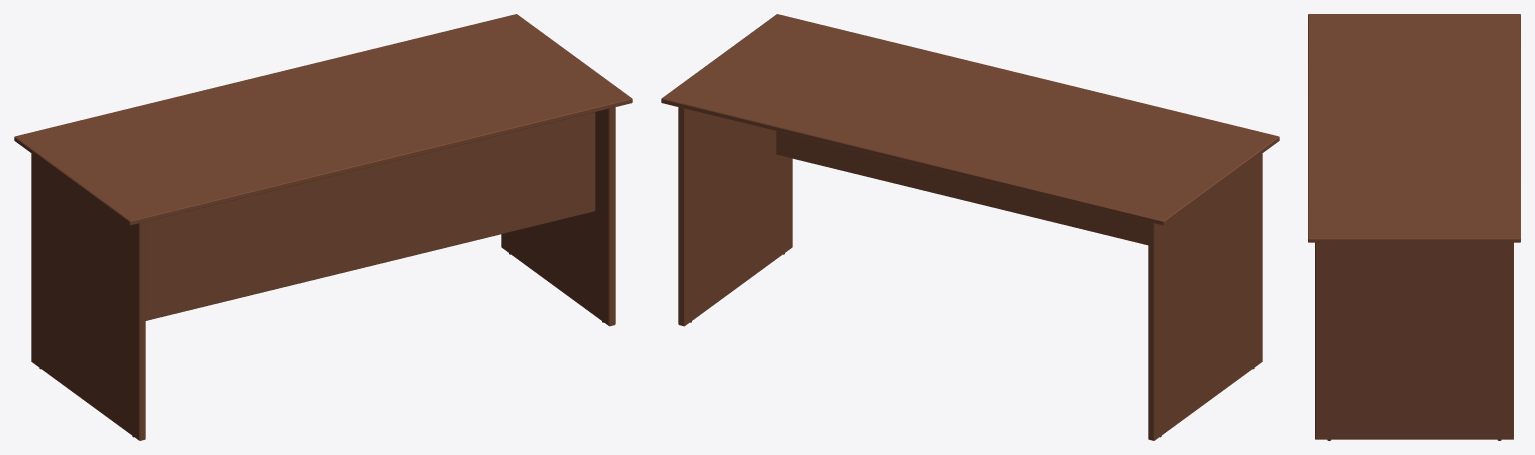
The model's file is table.dae.
The picture shows the model from 3 angles, left to right: view 1: azimuth 30°, elevation 25°; view 2: azimuth 150°, elevation 25°; view 3: azimuth 270°, elevation 25°; orthographic projection. The views are drawn at different scales.
Parts seen in each view (by area): view 1: Opora.1; view 2: Opora.1; view 3: Opora.1.
Part boxes in pixels (x1,y1,x2,y2): Opora.1: [14, 14, 632, 440]; Opora.1: [661, 14, 1279, 440]; Opora.1: [1308, 14, 1520, 440].
Bounding box in the file's own units: 410 × 177 × 164.
